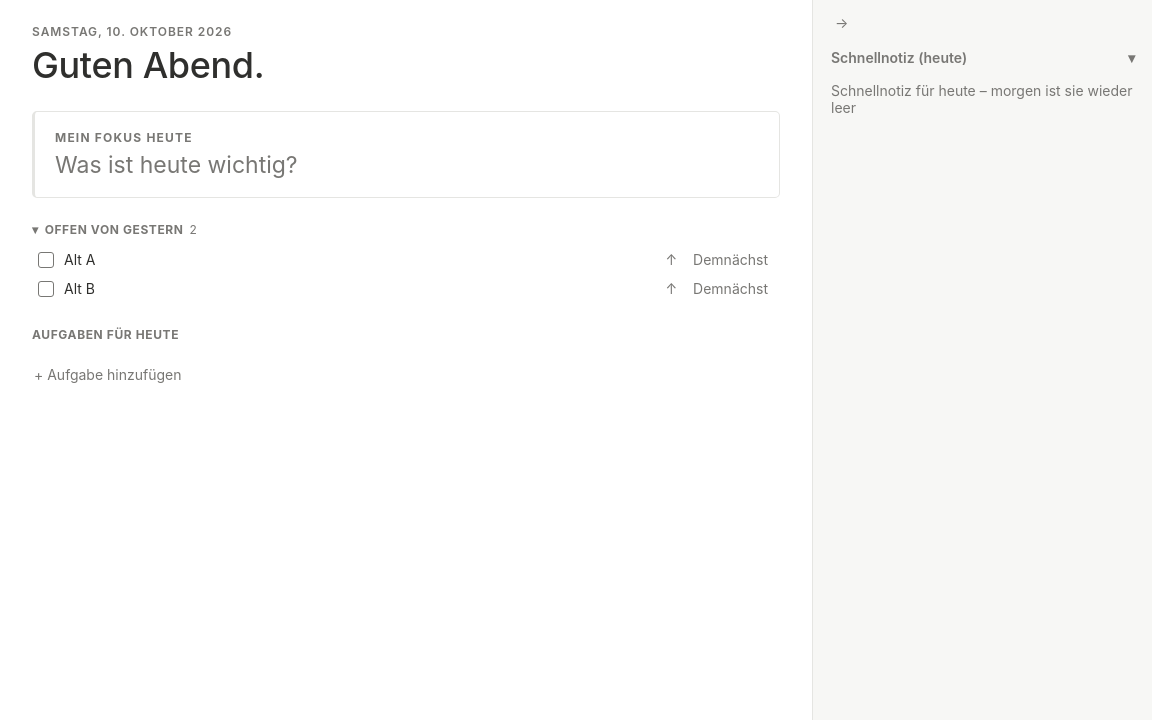
Test: Offen von gestern einklappen › klappt die Liste ein und aus und merkt sich den Zustand
This screenshot has width=1152, height=720.
Expected: the text "Alt A" is shown, x1=64 y1=251 x2=95 y2=268
What coordinates should you click on to do the following:
click the button "▾ Offen von gestern 2"
I would click on:
 (115, 230)
Its box is x1=32 y1=222 x2=198 y2=237.
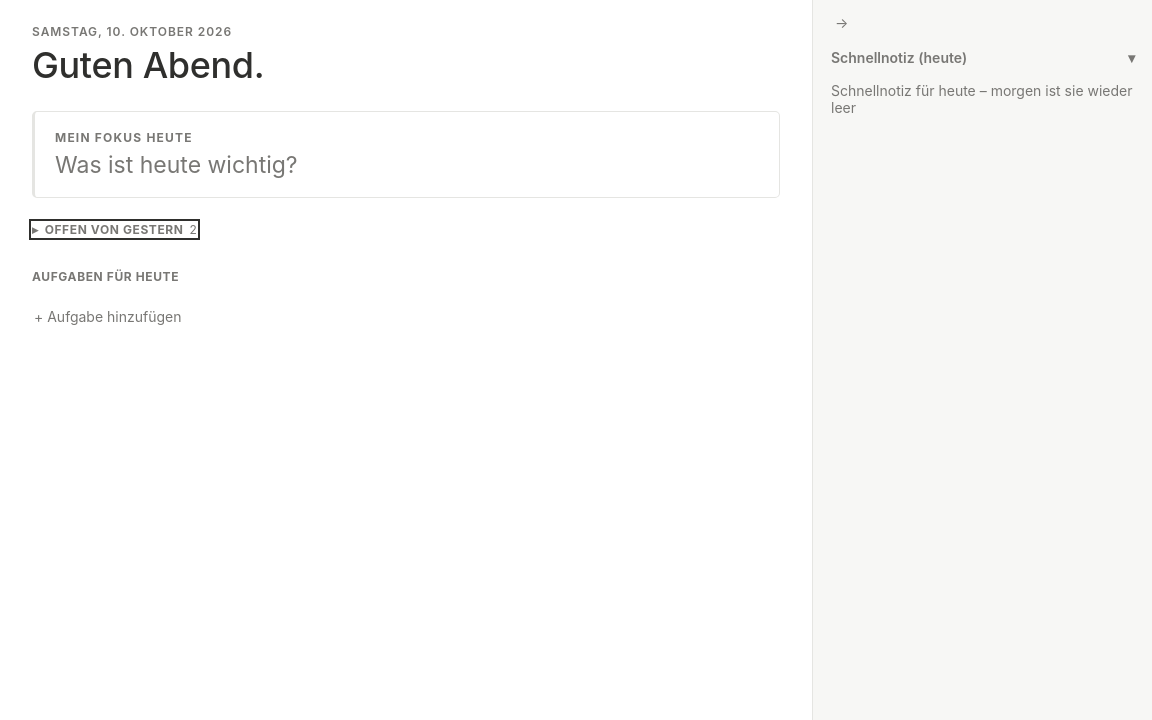
Result: the button "▸ Offen von gestern 2" is collapsed
Result: the text "Alt A" is gone
What coordinates should you click on to do the following:
click the button "▸ Offen von gestern 2"
I would click on:
 (115, 230)
Its box is x1=32 y1=222 x2=198 y2=237.
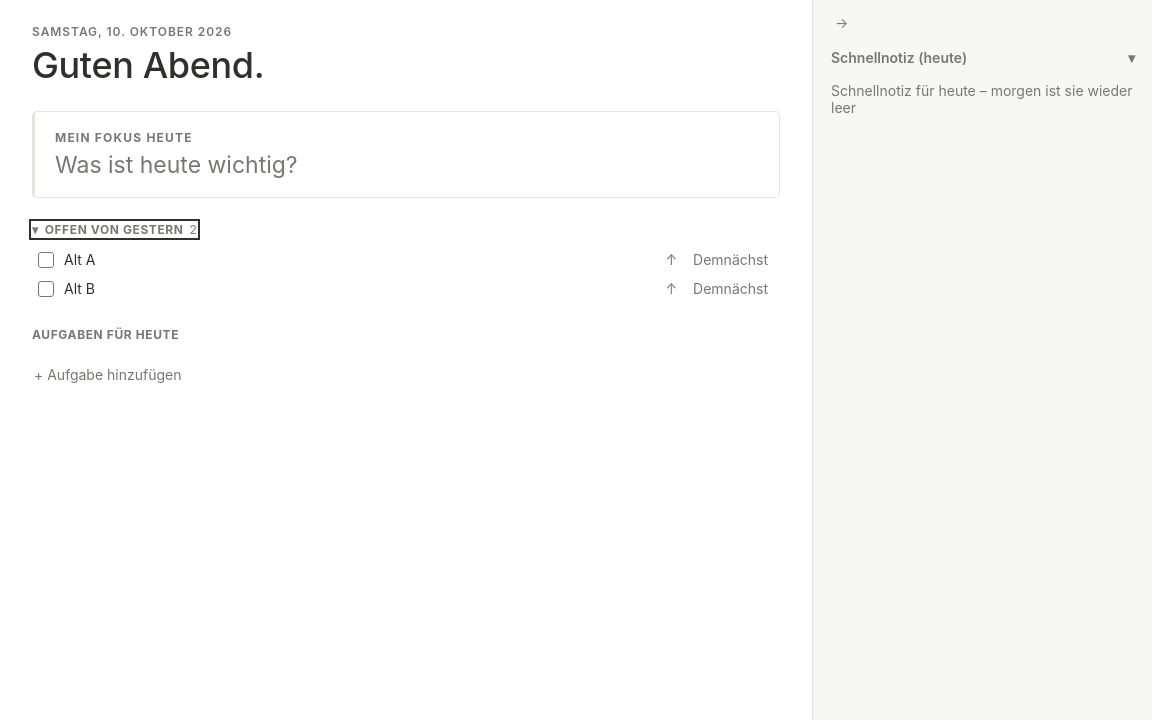
Result: the text "Alt A" is shown at x1=64 y1=251 x2=95 y2=268
